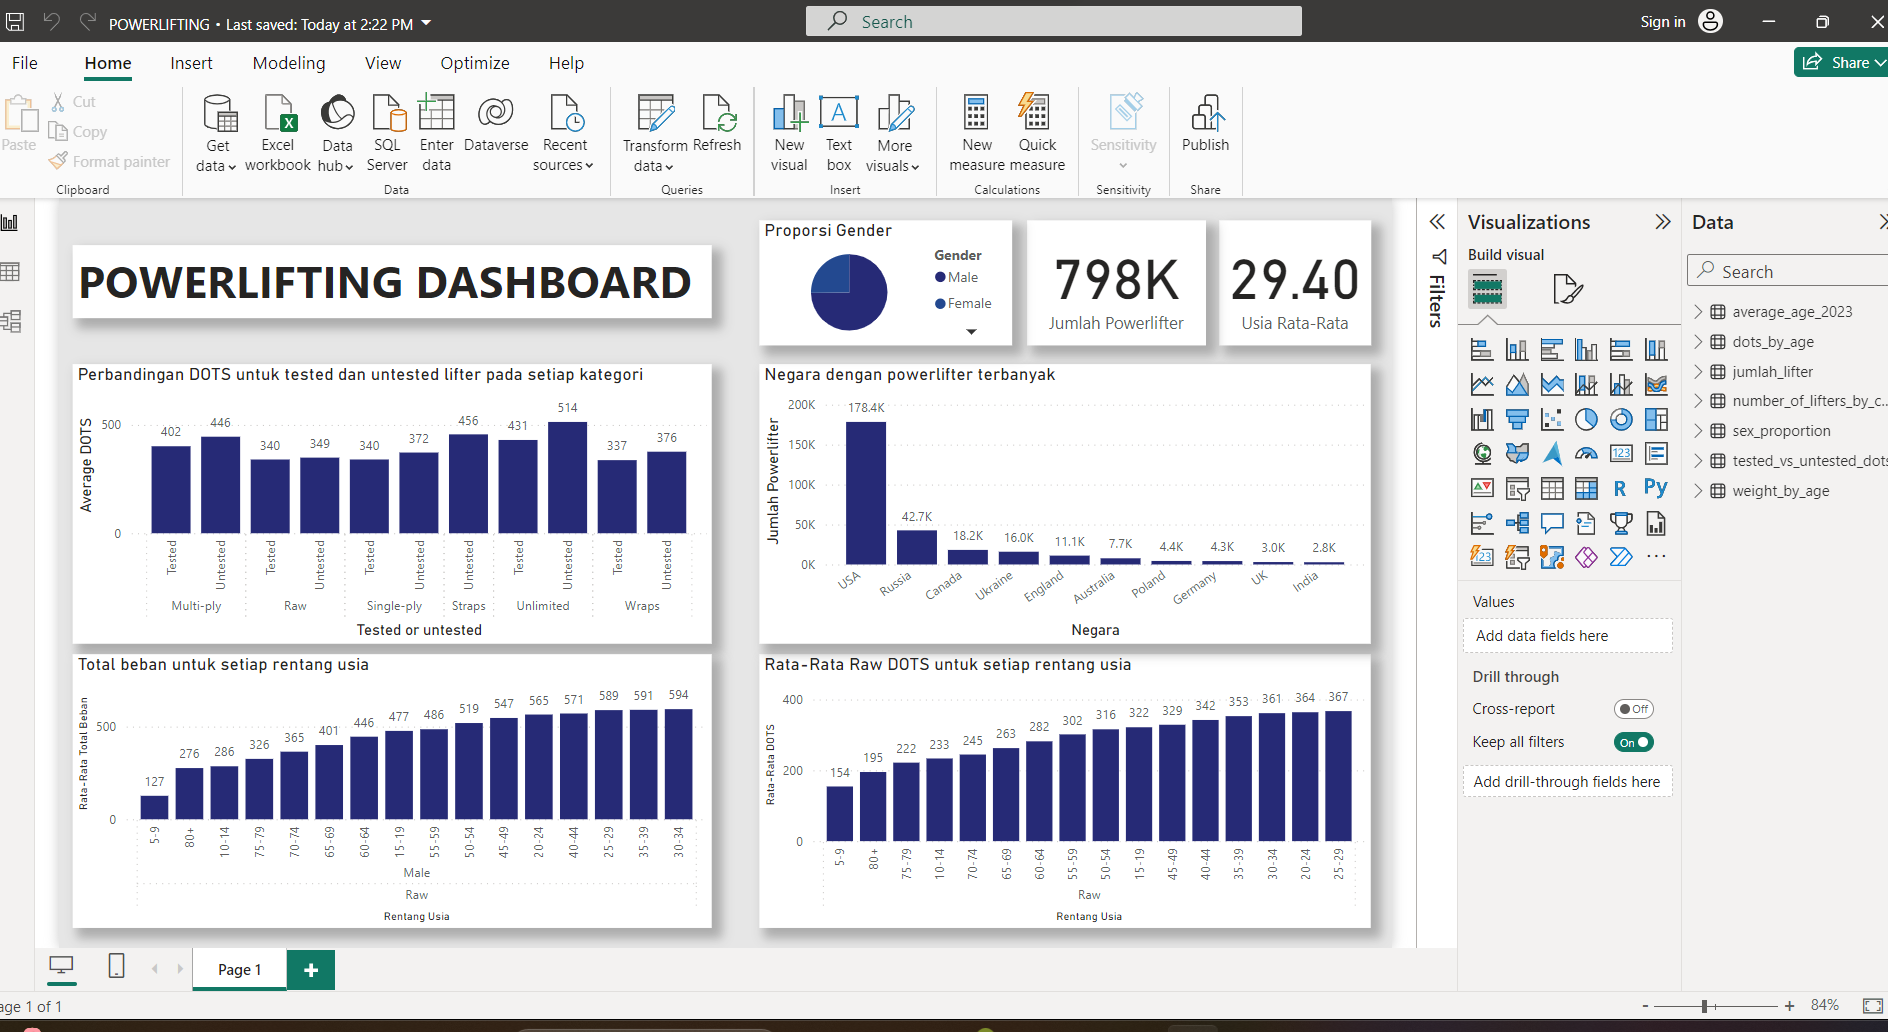

The dashboard page shown, as its layout file describes it:
{"tool":"powerbi","page":{"name":"Page 1","canvas":[1280,720],"ordinal":0},"visuals":[{"type":"card","fields":{"Values":["Sum(average_age_2023.Average_Age)"]},"box":[1114.3,21.4,145.7,120],"z":0},{"type":"clusteredColumnChart","title":"Rata-Rata Raw DOTS untuk setiap rentang usia","fields":{"Y":["Sum(dots_by_age.DOTS Rata-Rata)"],"Category":["dots_by_age.Equipment","dots_by_age.Rentang Usia"]},"box":[672.9,438.6,587.1,262.9],"z":1000},{"type":"card","fields":{"Values":["Sum(jumlah_lifter.Jumlah Lifter)"]},"box":[930,21.4,171.4,120],"z":2000},{"type":"clusteredColumnChart","title":"Negara dengan powerlifter terbanyak","fields":{"Category":["number_of_lifters_by_countries_top10.Country"],"Y":["Sum(number_of_lifters_by_countries_top10.Number of lifters)"]},"box":[672.9,160,587.1,268.6],"z":3000},{"type":"pieChart","title":"Proporsi Gender","fields":{"Y":["Sum(sex_proportion.Jumlah)"],"Category":["sex_proportion.Sex"]},"box":[672.8,21.4,242.9,120.3],"z":4000},{"type":"clusteredColumnChart","title":"Perbandingan DOTS untuk tested dan untested lifter pada setiap kategori","fields":{"Y":["Sum(tested_vs_untested_dots.Average Dots)"],"Category":["tested_vs_untested_dots.Equipment","tested_vs_untested_dots.Tested or untested"]},"box":[12.9,160,614.3,268.6],"z":5000},{"type":"clusteredColumnChart","title":"Total beban untuk setiap rentang usia","fields":{"Y":["Sum(weight_by_age.Average Weight)"],"Category":["weight_by_age.Equipment","weight_by_age.Sex","weight_by_age.Age Range"]},"box":[12.9,438.6,614.3,262.9],"z":6000},{"type":"textbox","box":[12.9,45.7,614.3,70],"z":7000}]}

Visuals, with their boxes on the page's 1280x720 design canvas (x1, y1, x2, y2). These are canvas units, not pixel positions in the 1888x1032 screenshot, which may show the page scaled, cropped or inside an application window:
card - Sum(average_age_2023.Average_Age): [x1=1114, y1=21, x2=1260, y2=141]
"Rata-Rata Raw DOTS untuk setiap rentang usia" clusteredColumnChart: [x1=673, y1=439, x2=1260, y2=702]
card - Sum(jumlah_lifter.Jumlah Lifter): [x1=930, y1=21, x2=1101, y2=141]
"Negara dengan powerlifter terbanyak" clusteredColumnChart: [x1=673, y1=160, x2=1260, y2=429]
"Proporsi Gender" pieChart: [x1=673, y1=21, x2=916, y2=142]
"Perbandingan DOTS untuk tested dan untested lifter pada setiap kategori" clusteredColumnChart: [x1=13, y1=160, x2=627, y2=429]
"Total beban untuk setiap rentang usia" clusteredColumnChart: [x1=13, y1=439, x2=627, y2=702]
textbox: [x1=13, y1=46, x2=627, y2=116]
